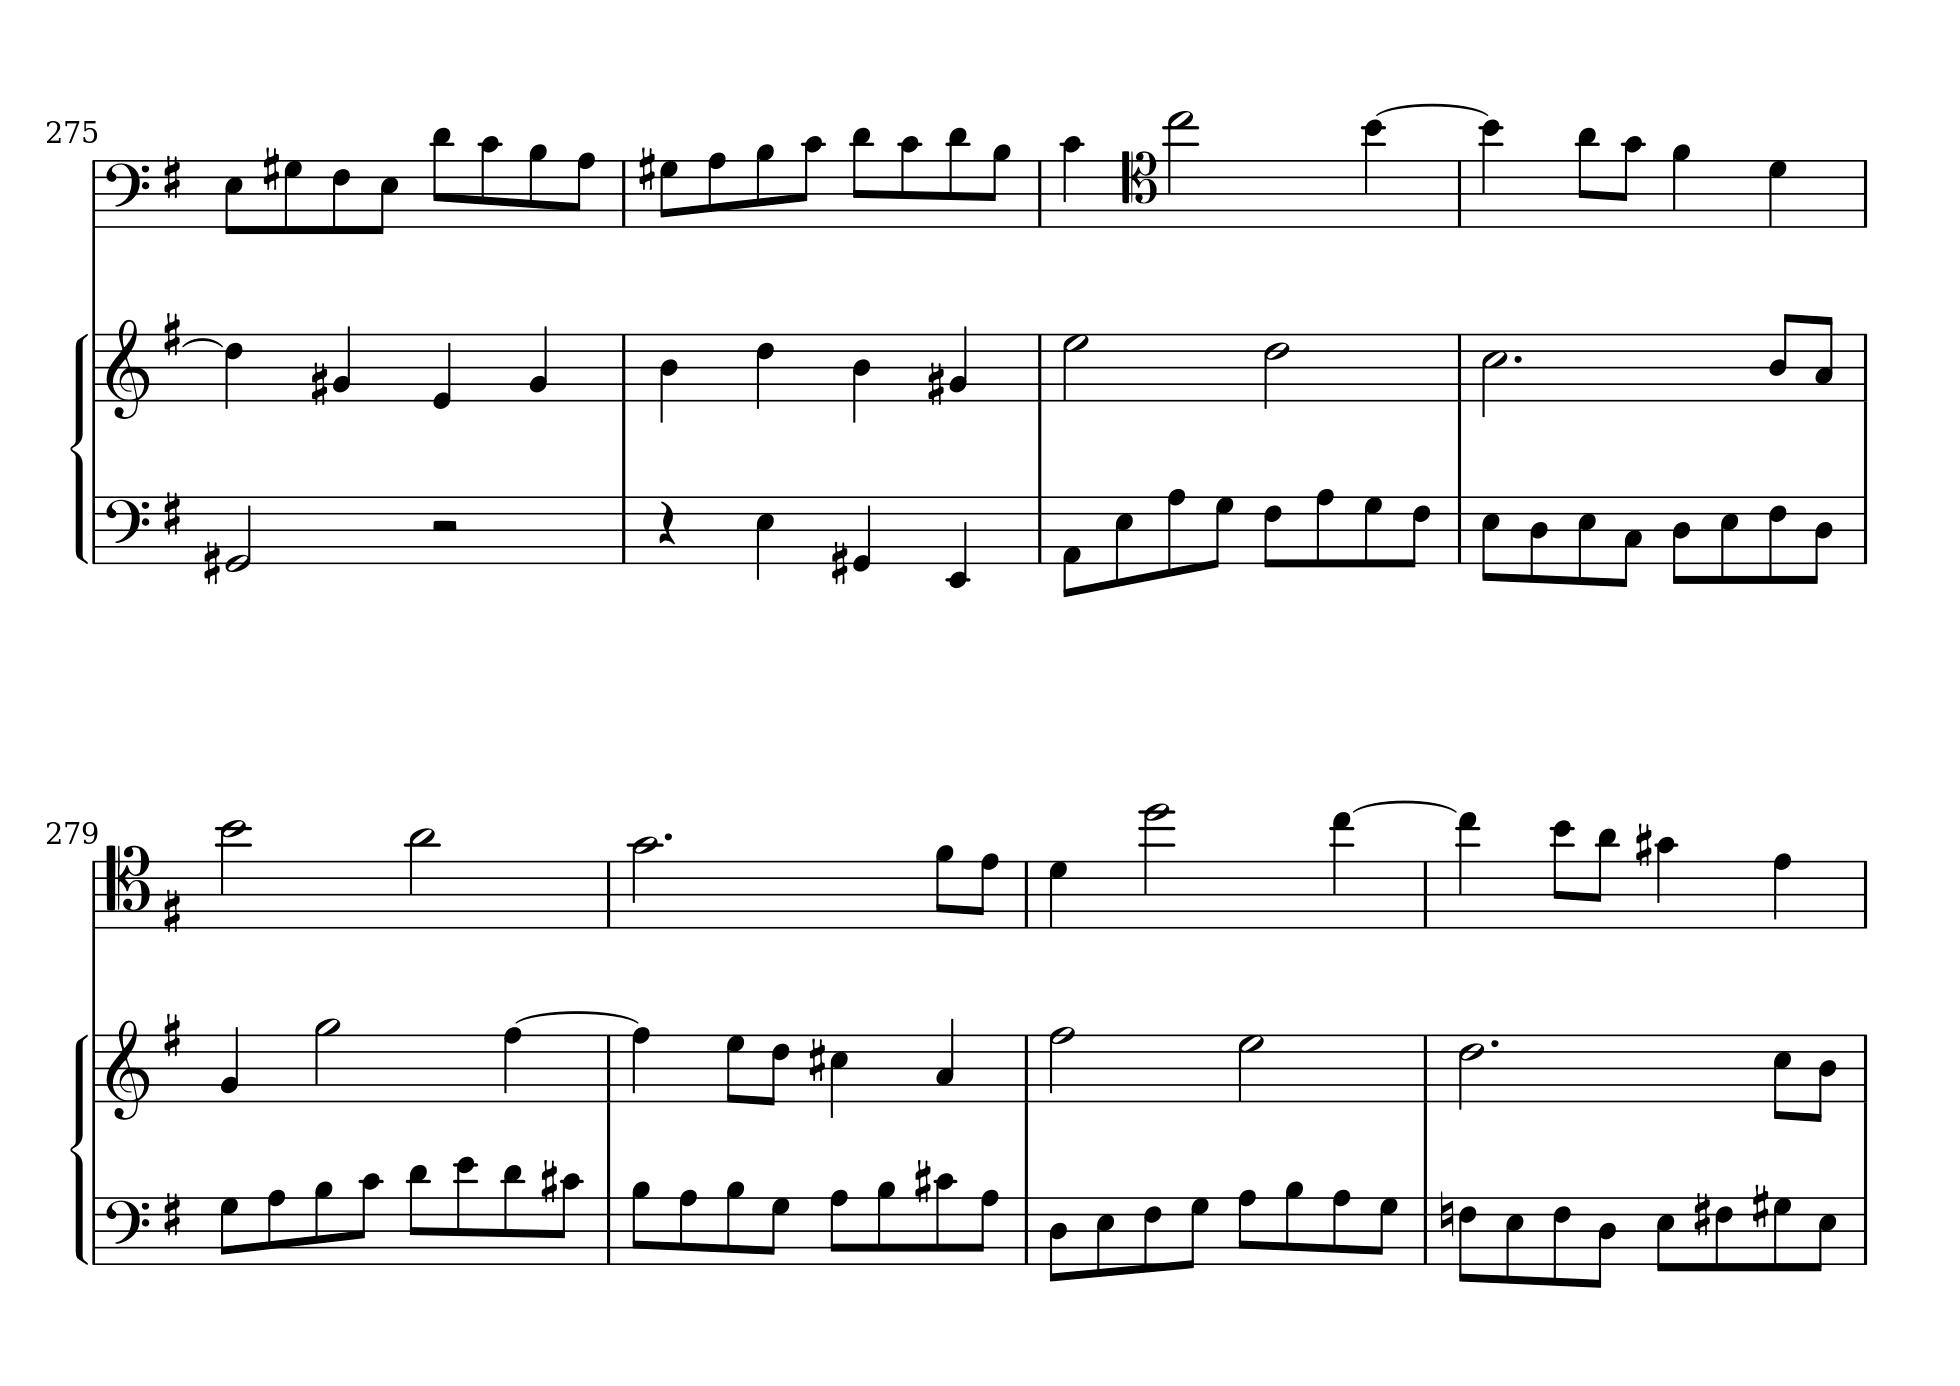2: (43, 820, 63, 844), (45, 118, 63, 144)
2_0: (223, 493, 253, 571)
2_10: (628, 832, 658, 931)
2_11: (406, 825, 438, 931)
2_12: (214, 816, 250, 931)
2_13: (1164, 106, 1197, 229)
2_14: (1140, 801, 1174, 928)
2_5: (1480, 331, 1507, 418)
2_6: (1263, 331, 1290, 409), (1458, 1032, 1485, 1110)
2_7: (1236, 1032, 1264, 1102), (1062, 331, 1089, 402)
2_8: (1047, 1024, 1074, 1102)
2_9: (312, 1015, 340, 1105)
4_-2: (945, 493, 970, 589)
4_0: (430, 331, 454, 411), (850, 493, 873, 573)
4_10: (1059, 133, 1086, 229), (1654, 834, 1678, 930)
4_12: (1479, 118, 1504, 229), (1362, 118, 1386, 229)
4_13: (1455, 810, 1480, 931), (1330, 811, 1353, 931)
4_2: (526, 322, 550, 403), (219, 1024, 241, 1104), (331, 322, 352, 403), (948, 322, 969, 402)
4_3: (934, 1018, 955, 1102)
4_4: (658, 331, 679, 424), (850, 331, 871, 424)
4_5: (754, 493, 775, 583), (828, 1033, 849, 1120)
4_6: (223, 331, 246, 411), (754, 331, 775, 412)
4_7: (1767, 157, 1791, 228), (1047, 859, 1069, 928)
4_8: (1771, 850, 1794, 930), (630, 1024, 652, 1104), (502, 1024, 523, 1104)
4_9: (1671, 142, 1692, 229)
5: (81, 117, 97, 144)
7: (63, 118, 79, 144), (63, 819, 79, 844)
8_1: (1062, 495, 1083, 600)
8_10: (553, 1170, 583, 1266), (352, 1171, 382, 1264), (1615, 133, 1644, 228), (796, 133, 823, 229), (933, 1171, 957, 1266), (478, 133, 501, 229), (898, 133, 921, 228)
8_11: (1588, 826, 1618, 930), (499, 1162, 525, 1267), (430, 124, 454, 229), (850, 124, 874, 229), (406, 1161, 430, 1266), (946, 124, 969, 229), (1576, 124, 1599, 228)
8_12: (453, 1153, 478, 1267), (1551, 817, 1575, 928)
8_3: (1617, 493, 1644, 589), (1813, 313, 1834, 403)
8_4: (1590, 1195, 1618, 1290), (1768, 310, 1797, 403), (1807, 493, 1834, 585), (1812, 1032, 1837, 1123), (1047, 1195, 1069, 1282), (1528, 493, 1549, 586), (1671, 493, 1692, 586)
8_5: (370, 157, 400, 237), (1810, 1194, 1839, 1273), (1575, 493, 1597, 588), (1503, 1194, 1525, 1285), (1113, 493, 1134, 588), (1719, 493, 1740, 586), (1480, 493, 1501, 583), (222, 156, 244, 237), (1654, 1194, 1677, 1273), (1773, 1030, 1792, 1122), (1095, 1194, 1116, 1278)
8_6: (1404, 493, 1432, 568), (763, 1032, 790, 1107), (1551, 1194, 1572, 1288), (1767, 493, 1788, 586), (1458, 1195, 1479, 1284), (330, 157, 352, 237), (1713, 1194, 1735, 1273), (1143, 1194, 1164, 1275), (1263, 493, 1284, 570)
8_7: (1180, 1195, 1209, 1270), (1207, 493, 1234, 568), (280, 157, 304, 235), (763, 1195, 790, 1264), (1371, 1195, 1398, 1264), (1770, 1194, 1792, 1273), (217, 1194, 240, 1266), (1362, 493, 1383, 568), (658, 157, 679, 229), (724, 1033, 745, 1104)
8_8: (565, 150, 595, 229), (970, 850, 1000, 930), (970, 1186, 1000, 1266), (1165, 486, 1186, 579), (1314, 487, 1336, 568), (676, 1186, 699, 1267), (828, 1188, 850, 1267), (1236, 1186, 1258, 1266), (706, 150, 727, 229), (265, 1188, 286, 1266), (1332, 1188, 1353, 1266)
8_9: (984, 142, 1012, 229), (526, 142, 549, 229), (312, 1180, 334, 1266), (628, 1180, 651, 1266), (874, 1180, 897, 1266), (754, 142, 775, 229), (934, 843, 955, 930), (1284, 1179, 1305, 1266), (724, 1180, 745, 1266)
9: (81, 819, 99, 844)
Brace: (67, 331, 88, 564), (67, 1033, 88, 1264)
Cclef: (103, 841, 151, 928)
Fclef: (100, 1191, 151, 1264), (100, 156, 150, 228), (103, 493, 150, 564)
Gclef: (105, 1018, 151, 1120), (105, 316, 150, 418)
Natural: (1438, 1188, 1455, 1237)
Rests2: (429, 517, 460, 534)
Rests4: (654, 498, 676, 547)
Sharp: (160, 153, 184, 202), (160, 1189, 184, 1237), (160, 489, 183, 538), (259, 144, 280, 193), (636, 144, 657, 193), (925, 358, 946, 408), (162, 886, 183, 936), (162, 1009, 183, 1059), (1692, 1189, 1713, 1237), (807, 1035, 826, 1084), (162, 310, 181, 358), (309, 358, 328, 406), (829, 538, 849, 586), (540, 1156, 559, 1204), (912, 1156, 931, 1204), (1750, 1182, 1770, 1230), (202, 538, 220, 586), (1635, 820, 1653, 868)
Single_barline: (598, 859, 619, 927), (1030, 159, 1050, 226), (1032, 333, 1051, 400), (1030, 495, 1050, 562), (1017, 859, 1036, 927), (600, 1033, 619, 1101), (1450, 160, 1470, 226), (1450, 334, 1470, 400), (598, 1195, 616, 1264), (1017, 1195, 1035, 1264), (615, 333, 633, 400), (1857, 859, 1875, 927), (1416, 1033, 1434, 1101), (613, 496, 631, 562), (1450, 496, 1468, 562), (1417, 861, 1435, 927), (87, 333, 103, 400), (87, 1033, 103, 1101), (1018, 1033, 1035, 1101), (1857, 1033, 1873, 1101), (1417, 1195, 1434, 1263), (1857, 1197, 1873, 1264), (615, 160, 631, 226), (1857, 160, 1873, 226), (87, 496, 103, 562), (1857, 496, 1873, 562), (87, 859, 103, 924), (88, 1195, 103, 1263), (88, 160, 103, 226), (1858, 333, 1872, 400)
Slur: (514, 1009, 639, 1024), (1371, 102, 1491, 117), (1353, 798, 1456, 813), (180, 336, 225, 349)
Tensor_Cclef: (1119, 147, 1158, 228)
dot: (1510, 349, 1525, 367), (1488, 1033, 1501, 1051), (661, 829, 673, 844)
